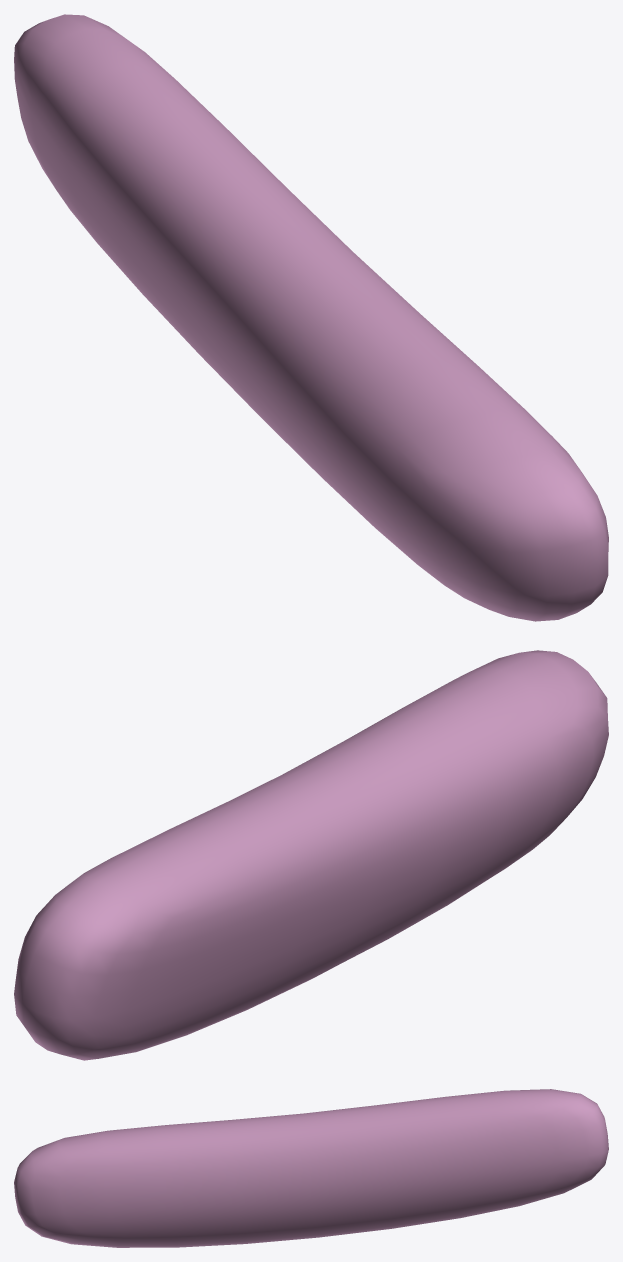
3 views of the same model, one above another, from view 1: azimuth 30°, elevation 25°; view 2: azimuth 150°, elevation 25°; view 3: azimuth 270°, elevation 25° (orthographic). The views are drawn at different scales.
Parts seen in each view (by area): view 1: 右侧动眼神经副核; view 2: 右侧动眼神经副核; view 3: 右侧动眼神经副核.
Part boxes in pixels (bbox=[...]): 右侧动眼神经副核: bbox=[14, 14, 608, 621]; 右侧动眼神经副核: bbox=[14, 650, 608, 1060]; 右侧动眼神经副核: bbox=[14, 1089, 608, 1247].
Size of the model in its own units: 0.002 by 0.00338 by 0.0121.
